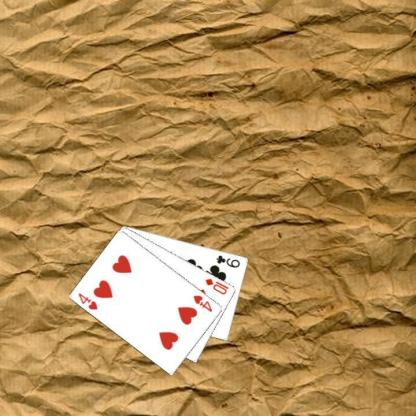10D: (203, 275, 230, 296)
4H: (190, 292, 214, 314), (76, 290, 99, 310)
9C: (214, 252, 241, 269)
